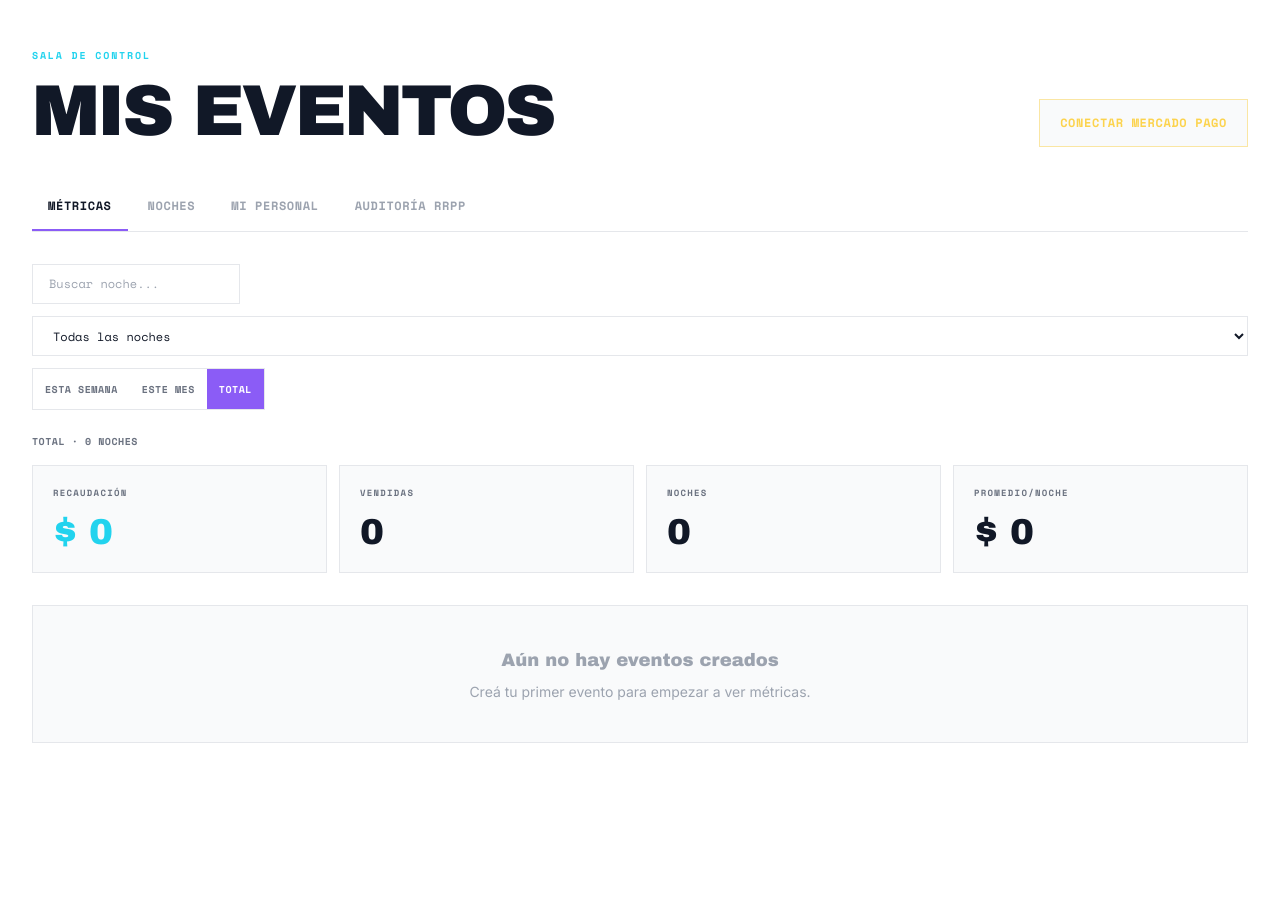
Test case: DashboardPage › tab navigation › switches to Mi Personal tab on click
The image size is (1280, 900).
Click the tab "Mi Personal" at (275, 207), box [215,183,335,231]
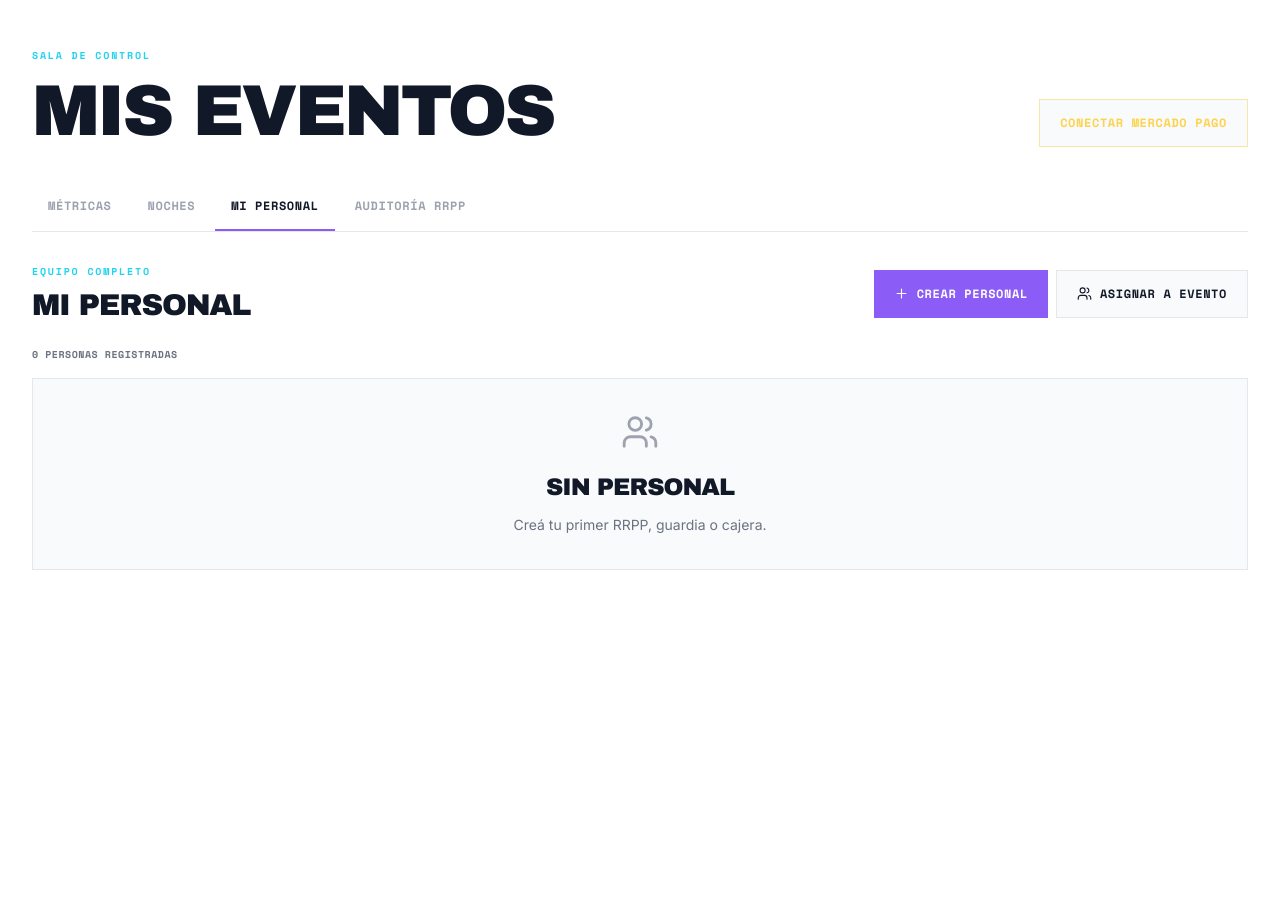
Expected: the element with test id "gestion-personal-tab" is shown, [32,264,1248,570]
Expected: the element with test id "metricas-tab" is gone
